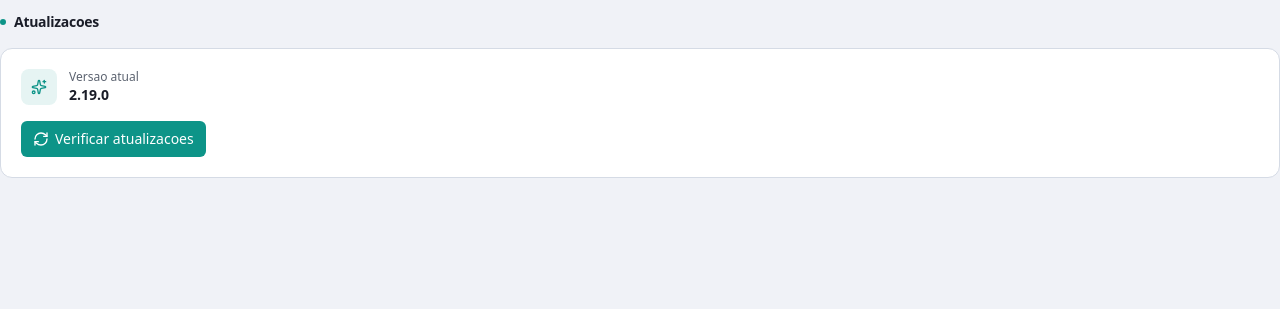
UpdatesSection — verificação › cai em erro quando a verificação falha em build empacotado
The image size is (1280, 309).
Click the button "Verificar atualizacoes" at (113, 139), box [21,121,206,157]
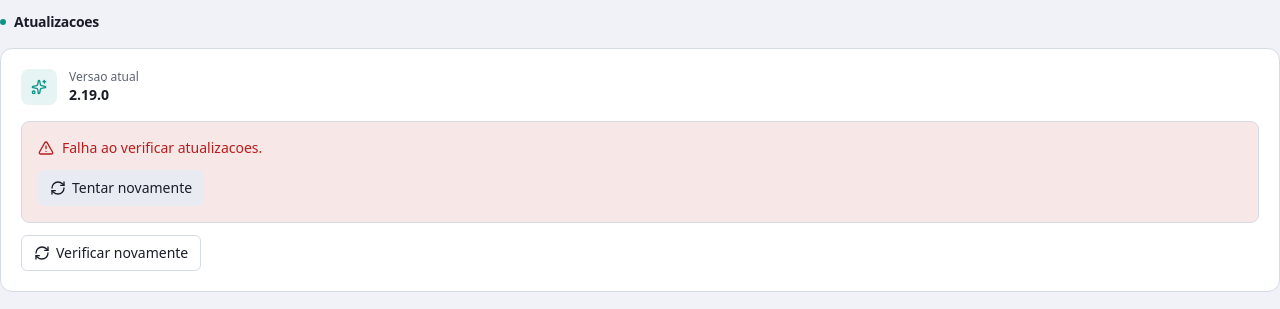
Result: the message shows "Falha ao verificar atualizacoes." at [62,138,262,157]
